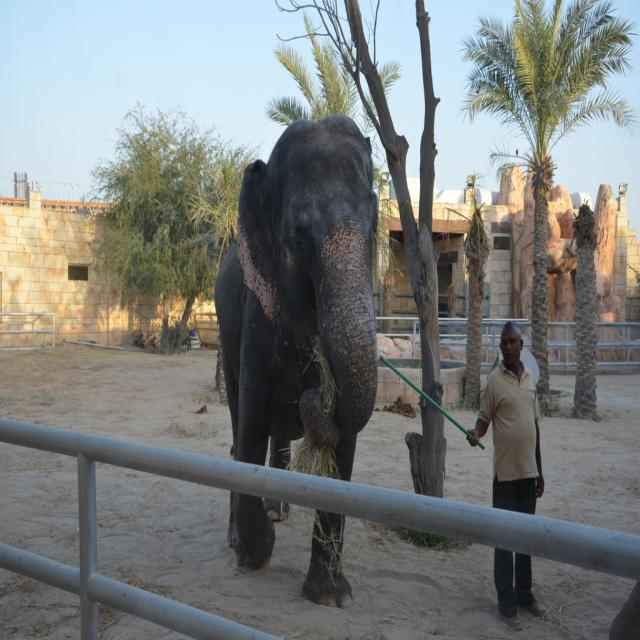Elephant: (214, 112, 378, 608)
person: (466, 320, 547, 631)
